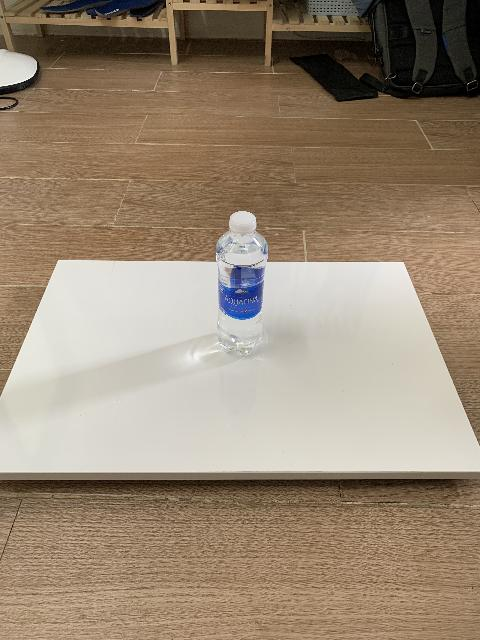aquafina: (216, 211, 268, 357)
